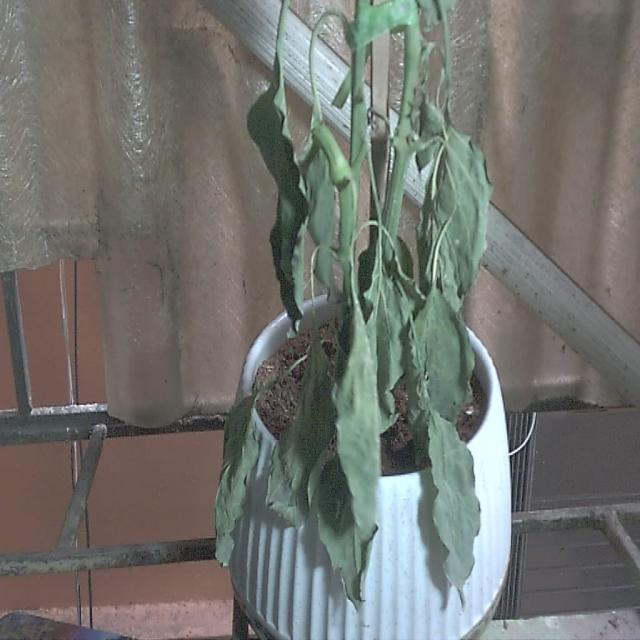Leaf: (246, 72, 310, 341), (332, 296, 380, 529), (428, 407, 481, 611), (214, 385, 260, 566)
